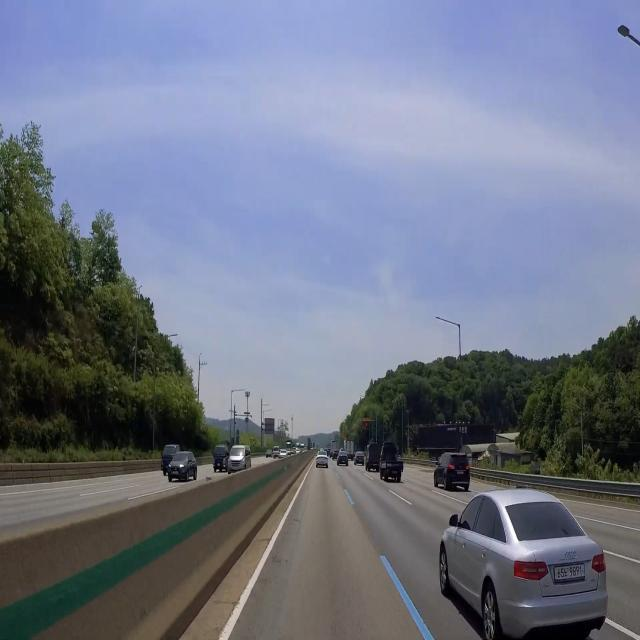car: (548, 558, 591, 584), (455, 467, 468, 482), (170, 469, 179, 477), (341, 460, 346, 464), (320, 461, 325, 464)
